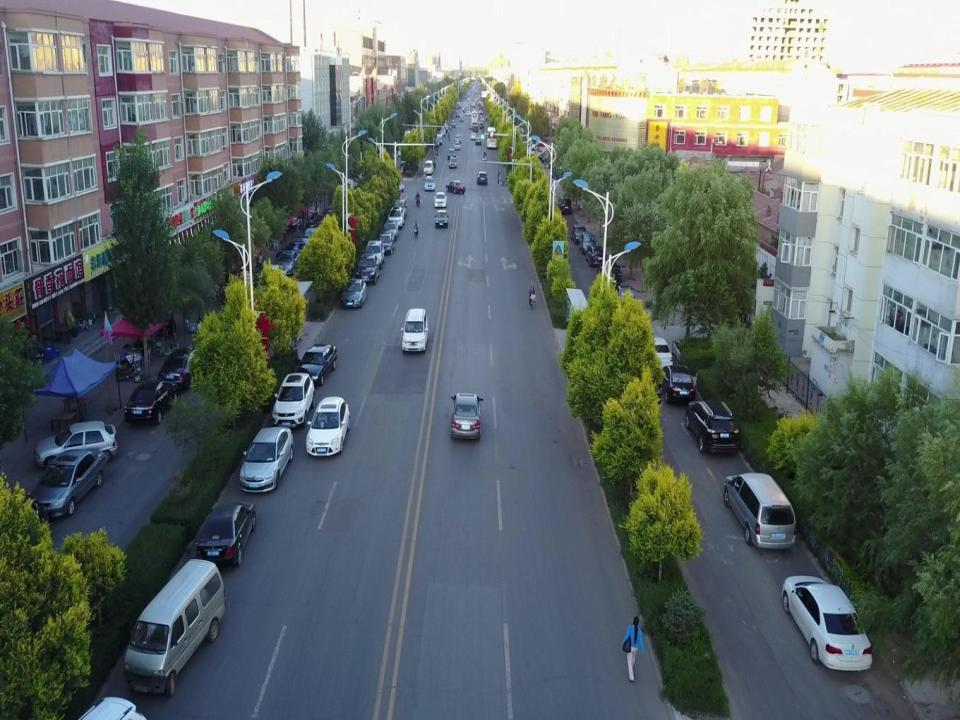bus: (486, 127, 497, 149), (471, 111, 478, 123)
car: (782, 575, 872, 672), (27, 448, 104, 517), (33, 420, 118, 472), (196, 499, 255, 565), (240, 426, 293, 492), (124, 380, 178, 424), (158, 348, 211, 388), (296, 343, 338, 385), (449, 392, 484, 439), (657, 365, 695, 403), (276, 240, 313, 264), (614, 284, 638, 314), (341, 278, 366, 306), (275, 250, 300, 277), (305, 214, 336, 234), (298, 228, 322, 252), (586, 246, 606, 267), (570, 224, 589, 244), (376, 233, 394, 254), (381, 221, 398, 242), (445, 181, 466, 194), (433, 192, 447, 207), (424, 176, 435, 190), (448, 157, 458, 169), (447, 149, 456, 159), (454, 135, 462, 144), (432, 139, 440, 147), (454, 141, 461, 150), (435, 136, 442, 145), (436, 131, 443, 139), (464, 111, 472, 116), (439, 129, 445, 135), (459, 116, 464, 121), (469, 123, 473, 129), (478, 110, 482, 114)
truck: (479, 115, 484, 122)
van: (124, 559, 225, 697), (723, 472, 796, 548), (685, 401, 740, 454), (306, 396, 350, 456), (272, 372, 314, 426), (400, 309, 428, 352), (644, 336, 672, 376), (259, 264, 287, 294), (356, 253, 379, 285), (598, 260, 622, 290), (363, 240, 385, 269), (579, 232, 598, 255), (388, 206, 404, 230), (392, 200, 407, 218), (557, 197, 572, 214), (434, 210, 448, 227), (476, 172, 488, 185), (423, 160, 433, 175), (472, 124, 479, 133), (475, 137, 481, 145), (479, 122, 485, 130), (440, 127, 445, 135), (471, 133, 476, 140), (451, 120, 455, 128), (456, 111, 461, 117)
